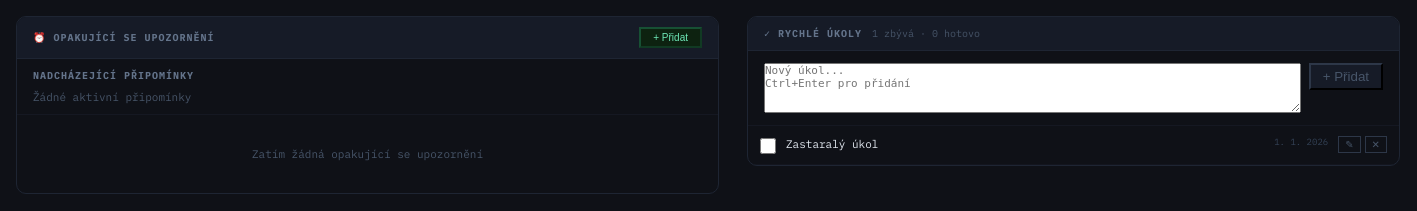
Test: TodoView — TODO položky › smaže položku a odešle delete_todo
Click the button titled "Smazat" at (1376, 144), box [1365,136,1387,153]
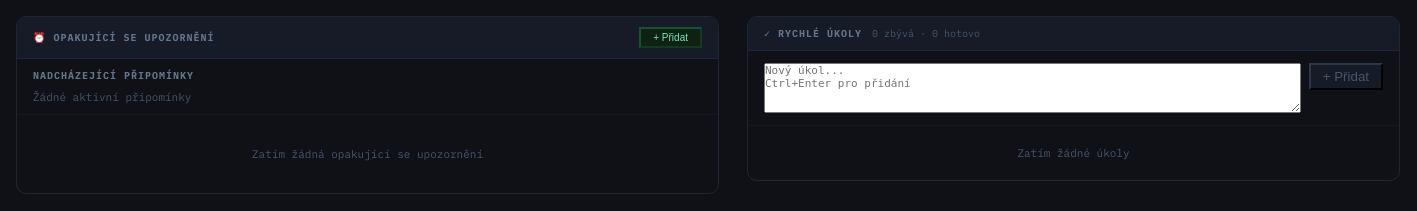
expect the text "Zastaralý úkol" is gone: met
